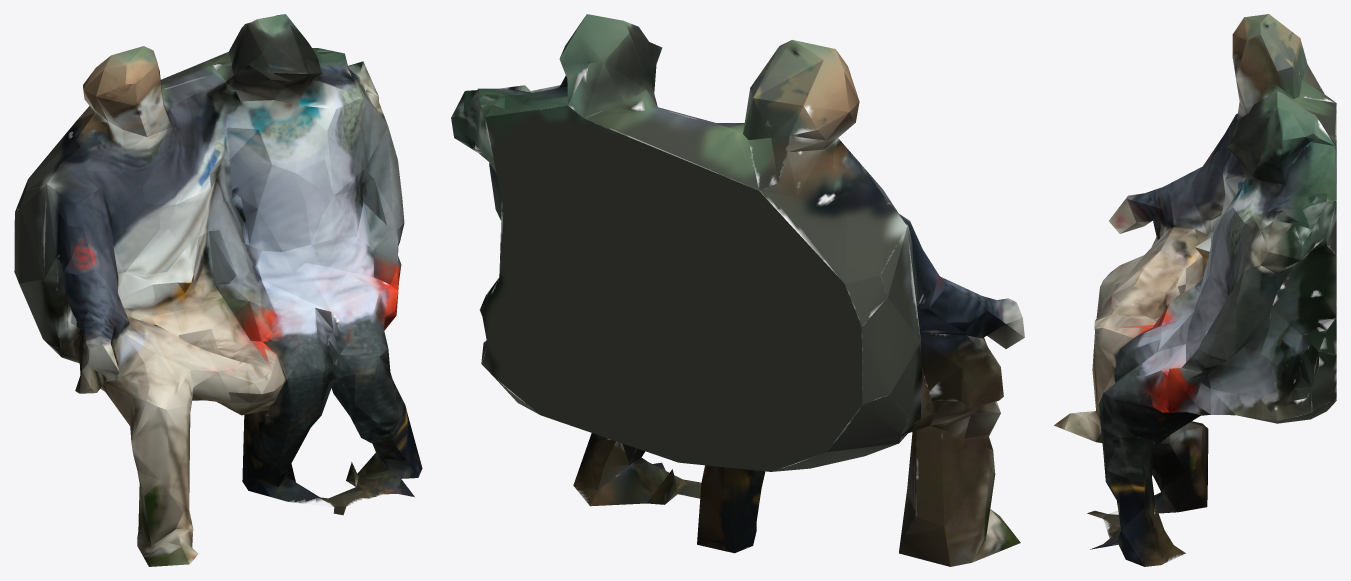
Rendered from kakashi_05b.fbx.
3 views of the same model, side by side, from view 1: azimuth 30°, elevation 25°; view 2: azimuth 150°, elevation 25°; view 3: azimuth 270°, elevation 25° (orthographic). The views are drawn at different scales.
Parts seen in each view (by area): view 1: kakashi_05:Mesh; view 2: kakashi_05:Mesh; view 3: kakashi_05:Mesh.
Boxes of the visible parts, left/top/right/bottom form: kakashi_05:Mesh: left=14, top=14, right=422, bottom=566; kakashi_05:Mesh: left=451, top=14, right=1024, bottom=566; kakashi_05:Mesh: left=1054, top=14, right=1336, bottom=566.
Bounding box in the file's own units: 17.25 × 19.86 × 11.68.
1 material, 1 textured.
